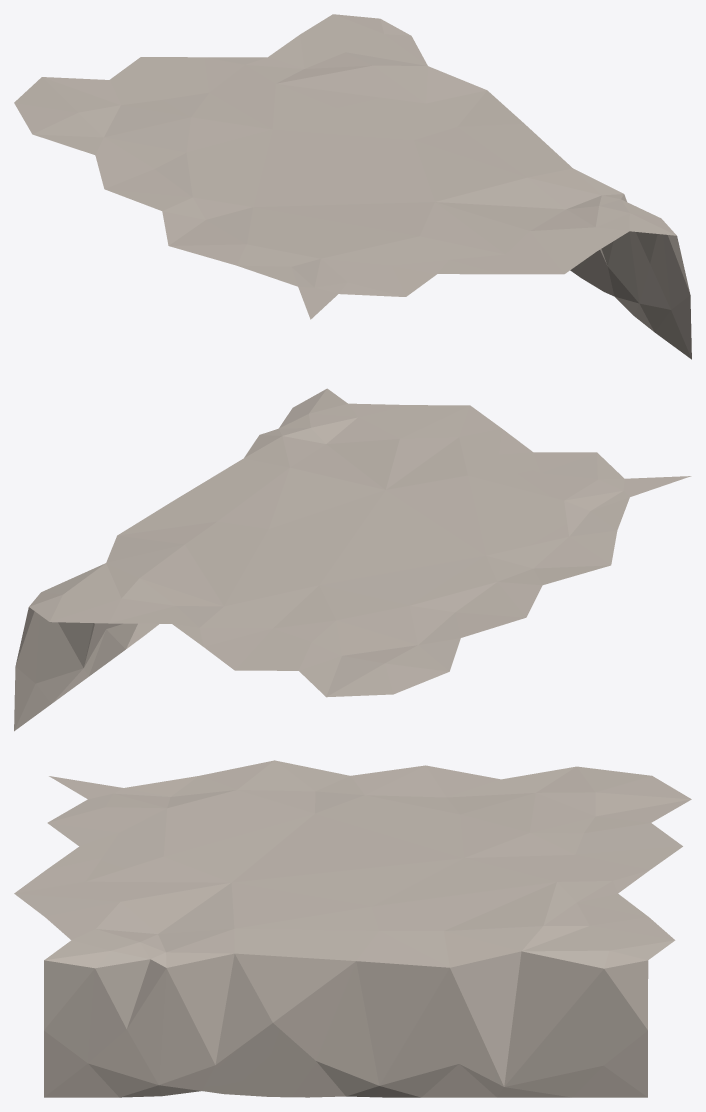
Rendered from BG_rock_LowWall_01_A.fbx.
The picture shows the model from 3 angles, top to bottom: view 1: azimuth 30°, elevation 25°; view 2: azimuth 150°, elevation 25°; view 3: azimuth 270°, elevation 25°; orthographic projection.
Parts seen in each view (by area): view 1: BG_rock_LowWall_01_A; view 2: BG_rock_LowWall_01_A; view 3: BG_rock_LowWall_01_A.
Boxes of the visible parts, x1,y1,x2,y2 form: BG_rock_LowWall_01_A: (14,14,691,359); BG_rock_LowWall_01_A: (14,388,691,731); BG_rock_LowWall_01_A: (14,760,691,1097).
Size of the model in its own units: 32.41 by 9.87 by 44.89.
